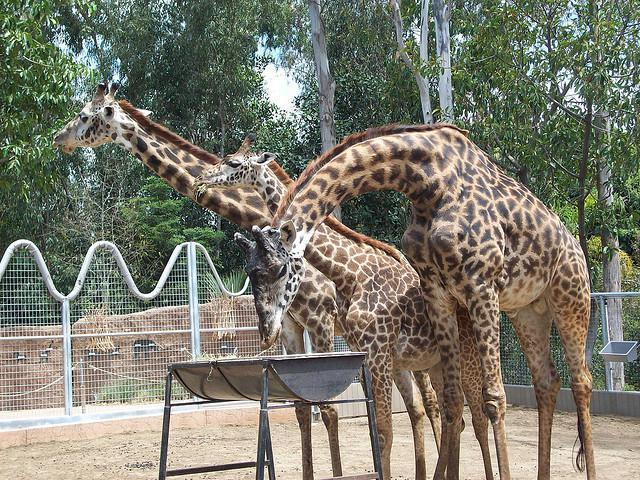giraffe: (49, 80, 442, 480), (233, 122, 600, 480), (193, 132, 494, 480)
